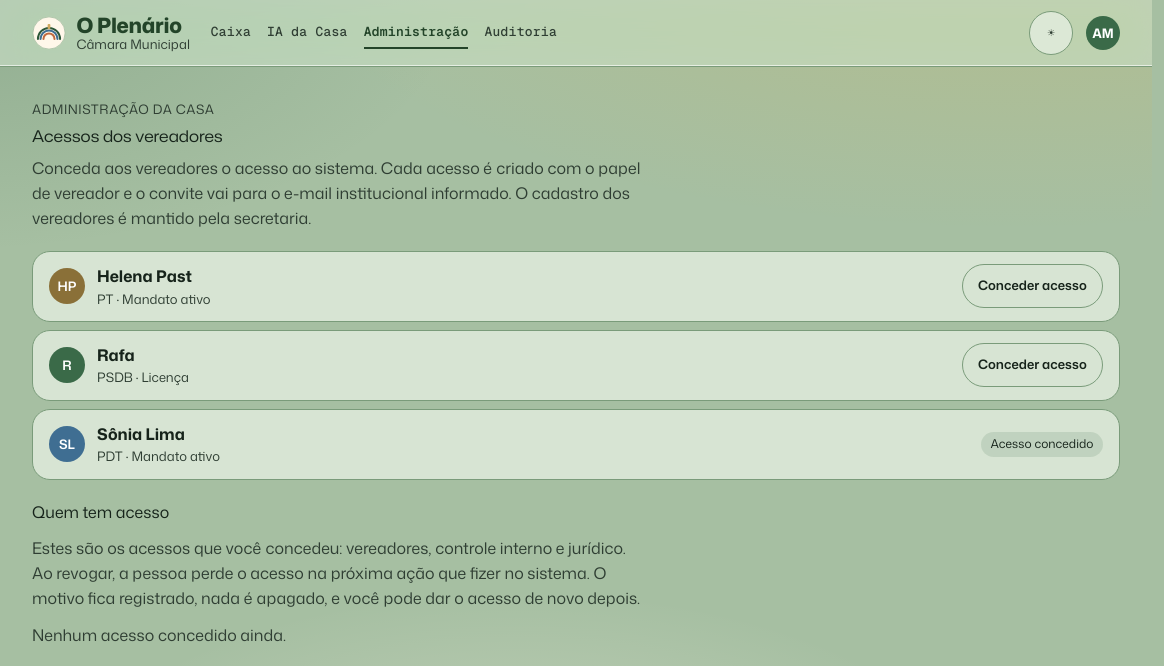
Test: Área do administrador da Casa (/administracao) › Conceder acesso: 409 no passo 2 aparece como alerta, o passo 3 nunca dispara e o form segue aberto
Click the button with aria-label "Conceder acesso a Helena Past": point(1032, 286) [962,264,1103,308]
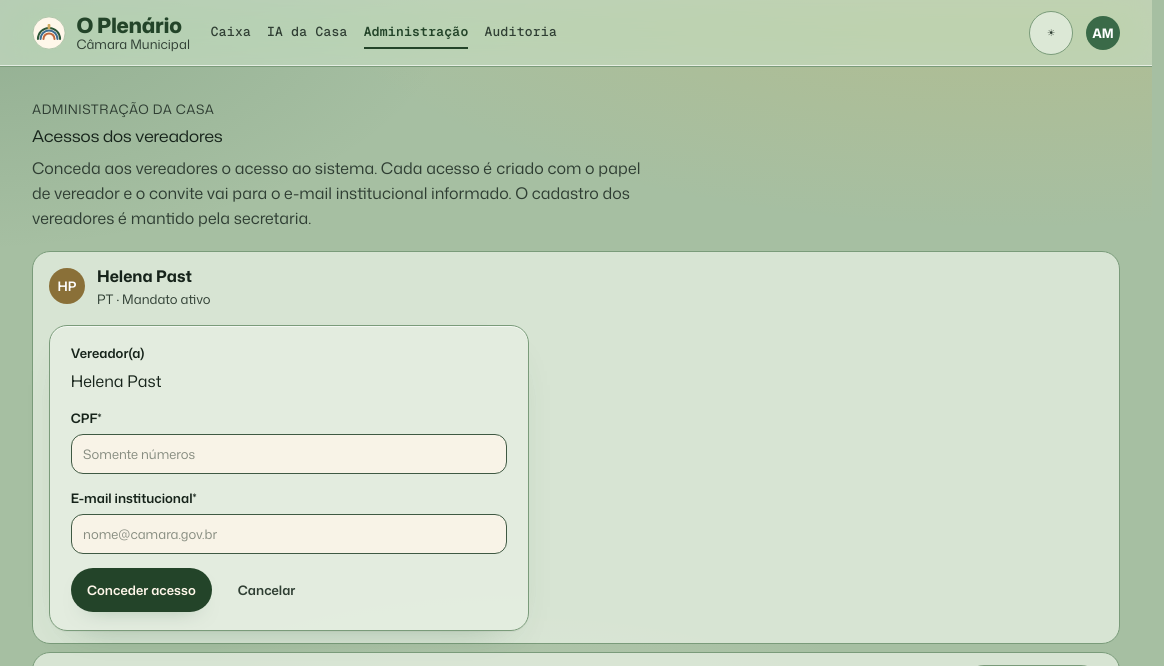
In the field labelled "CPF*": point(289, 454) [71,434,507,474], type "529.982.247-25"
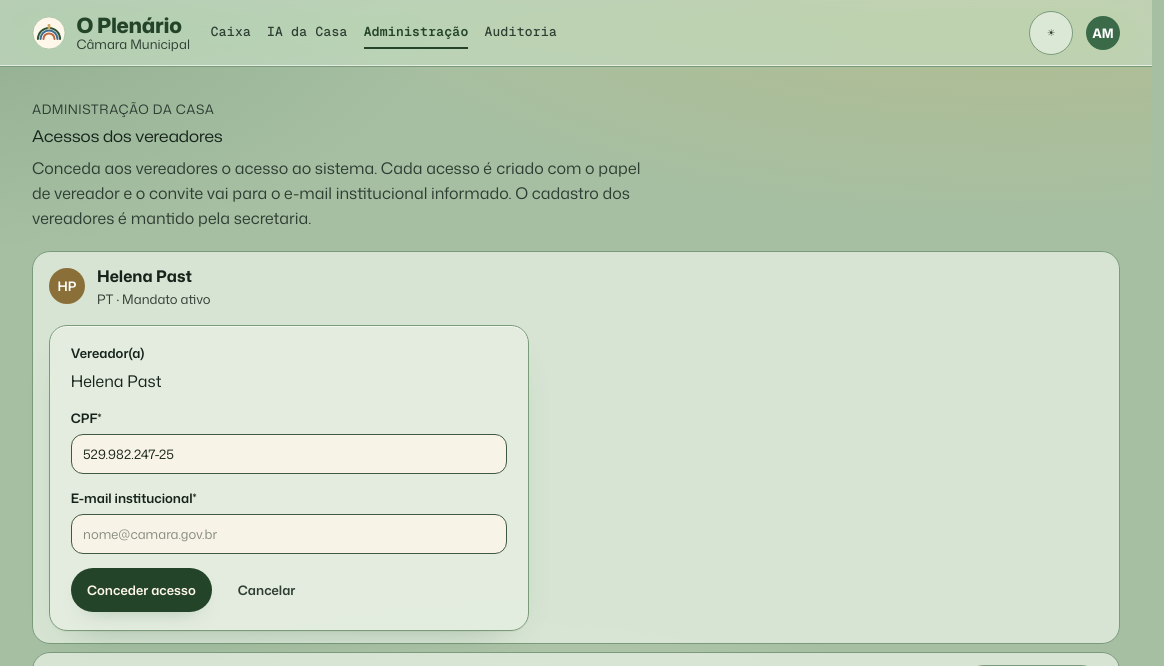
In the field labelled "E-mail institucional*": point(289, 534) [71,514,507,554], type "helena@camara.local"
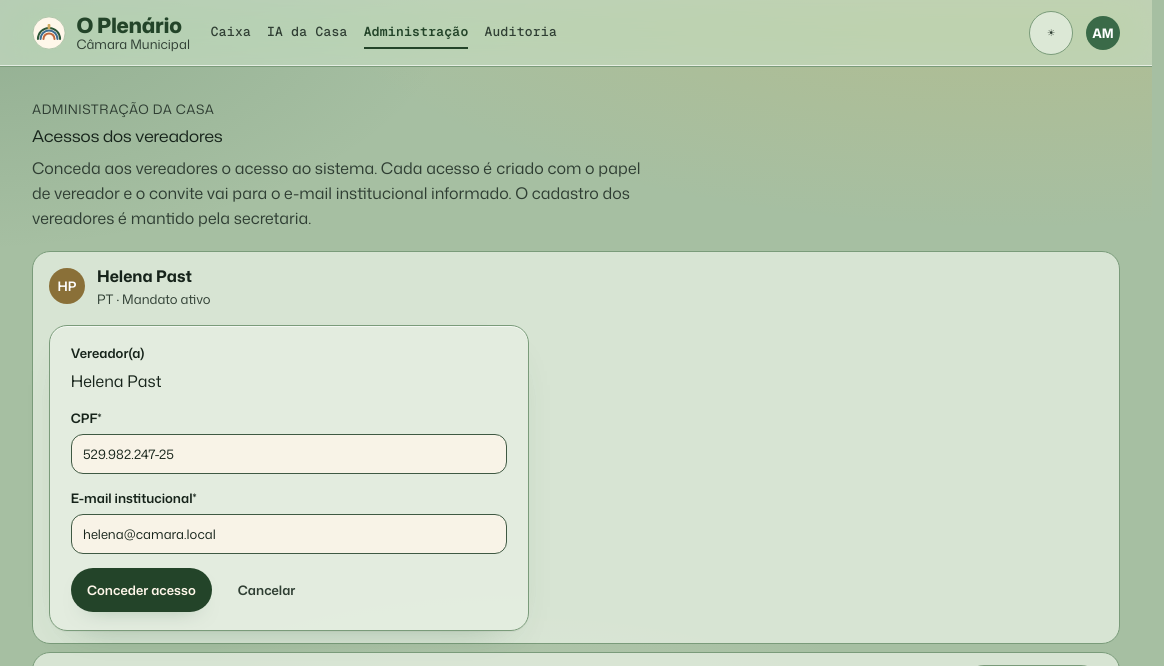
Submit the form "Conceder acesso", box [49,325,529,631]
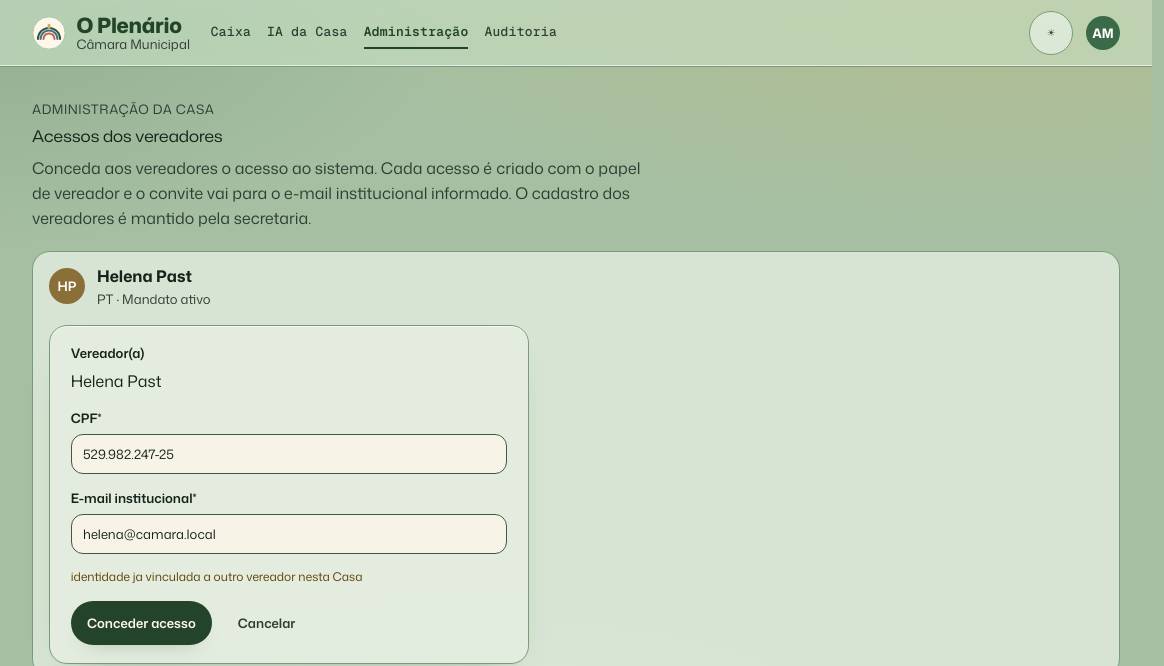
Check: the form named "conceder acesso" is shown, box [49,325,529,664]
Check: the text "identidade ja vinculada a outro vereador nesta Casa" is shown, box [71,568,363,585]
